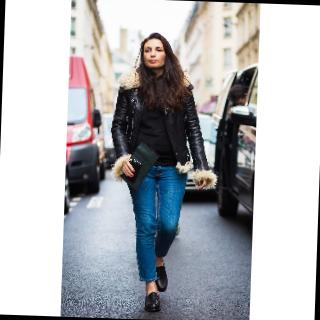loafers: (136, 248, 171, 320)
